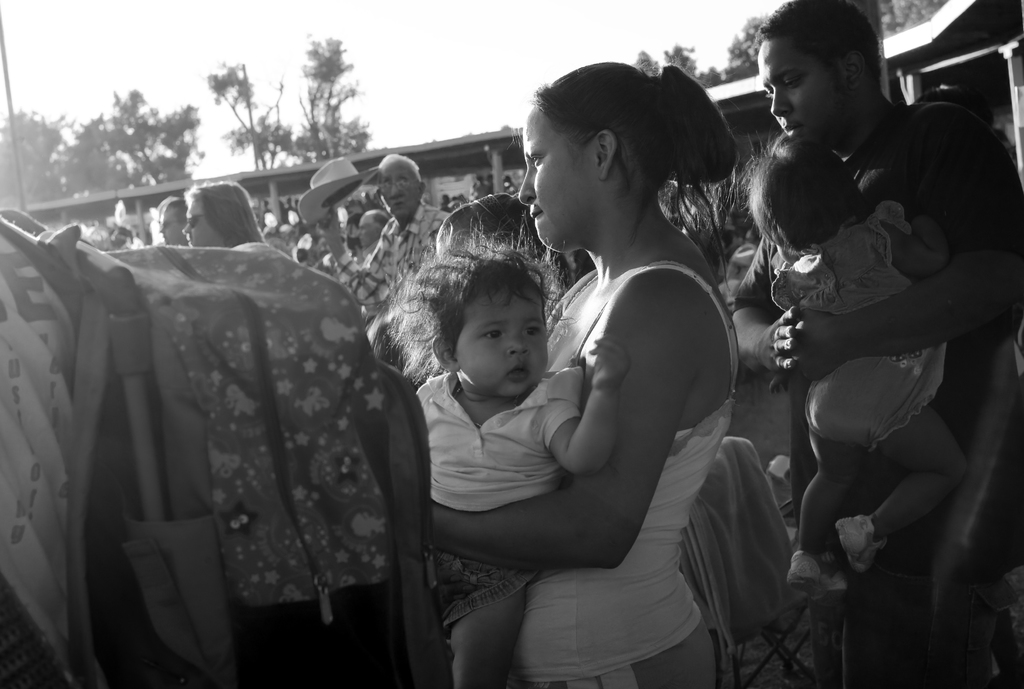Human_hand: (792, 307, 851, 386), (754, 302, 800, 378), (587, 335, 636, 394), (314, 207, 340, 242), (769, 373, 795, 397), (910, 215, 935, 232)
